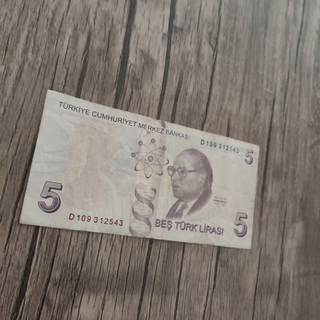5TLBack: (17, 87, 261, 250)
